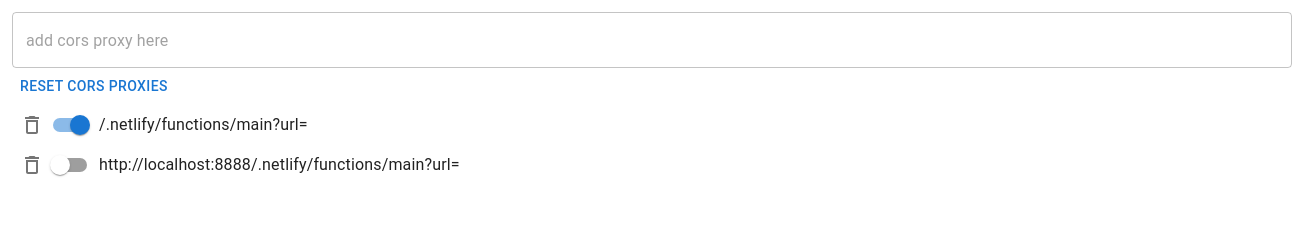
Test case: CorsProxiesEdit › CorsProxiesEdit component › cors proxies add control adds a corsproxy
The image size is (1304, 234).
Type "banana" into the field with placeholder "add cors proxy here".
click(652, 40); type("banana")  # box [12, 12, 1292, 68]
Then press Enter
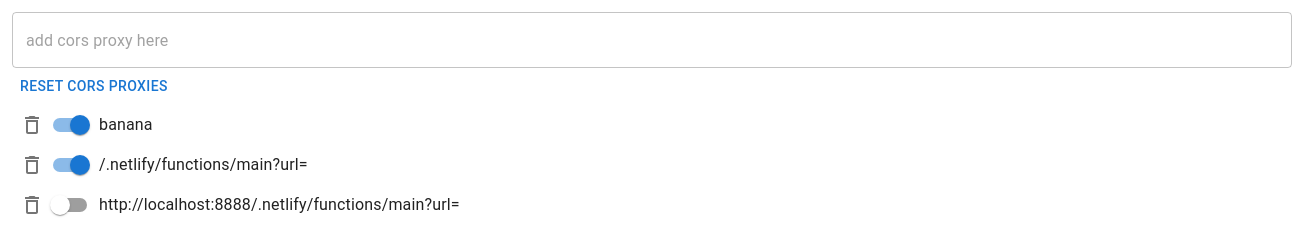
Expected: the text "banana" is shown, [99, 112, 153, 136]
